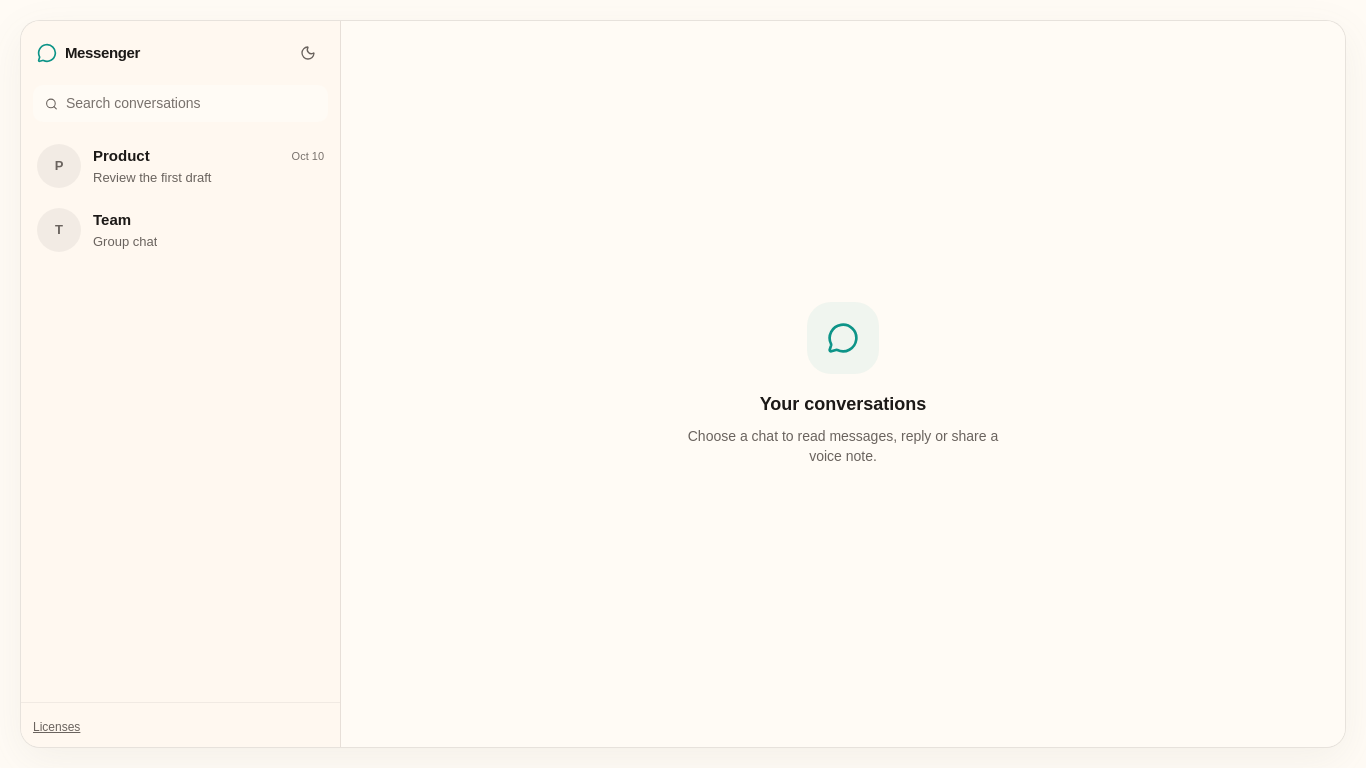
Test: retained donor chat UI and House composition › shows per-Room chat list and opens a real donor chat/header/event/toolbar
This screenshot has width=1366, height=768.
Click the button with aria-label "Open Product chat" at (59, 166), box [25, 134, 336, 198]
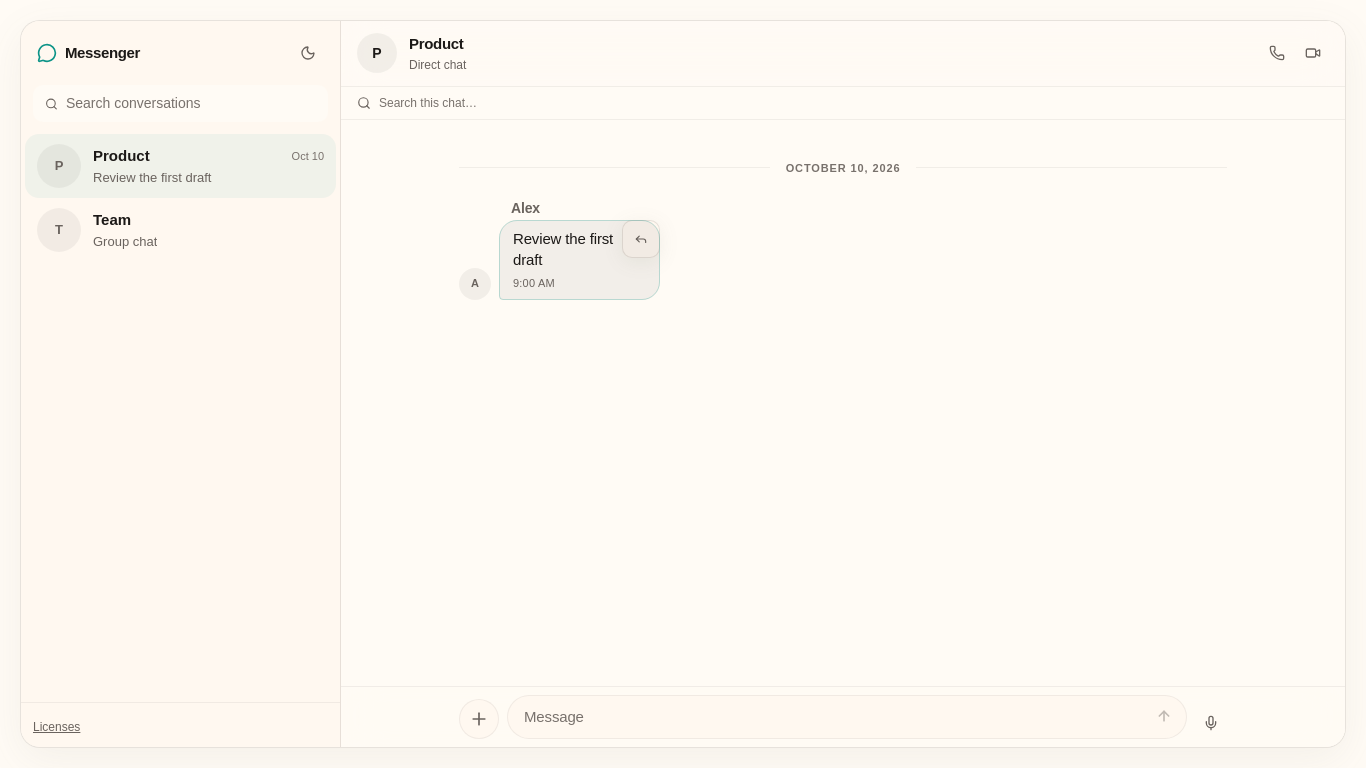
Expected: the header is shown, [341, 21, 1345, 86]
Expected: the element showing "A Alex Review the first draft 9:00 AM" is shown, [459, 200, 660, 300]
Expected: the text "Alex" is shown, [511, 200, 540, 216]
